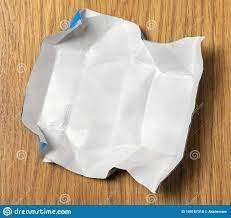Paper: (21, 8, 204, 193)
